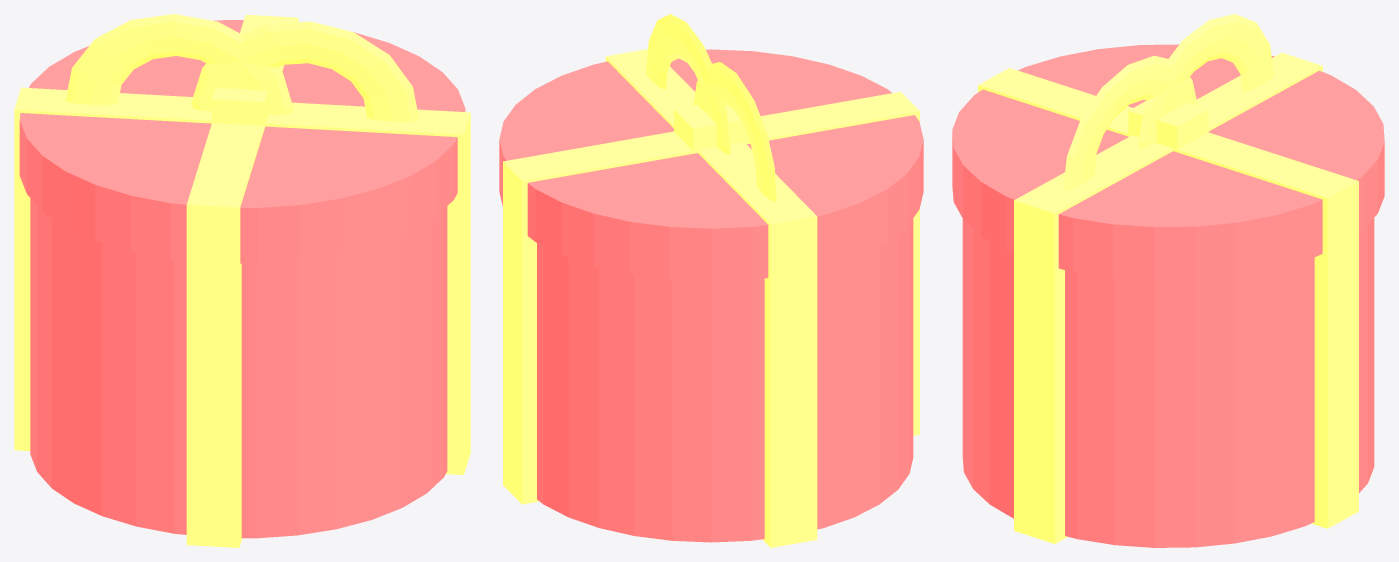
File: Tmpl_Round_Root_238.glb
The picture shows the model from 3 angles, left to right: view 1: azimuth 30°, elevation 25°; view 2: azimuth 150°, elevation 25°; view 3: azimuth 270°, elevation 25°; orthographic projection. The views are drawn at different scales.
Visible parts, largest first — view 1: Tmpl_Round_Base.236, Tmpl_Round_Lid.236, Tmpl_Round_Ribbon_Y.236, Tmpl_Round_Ribbon_X.236, Tmpl_Round_BowL.236, Tmpl_Round_BowR.236, Tmpl_Round_BowKnot.236; view 2: Tmpl_Round_Base.236, Tmpl_Round_Lid.236, Tmpl_Round_Ribbon_X.236, Tmpl_Round_Ribbon_Y.236, Tmpl_Round_BowR.236, Tmpl_Round_BowL.236, Tmpl_Round_BowKnot.236; view 3: Tmpl_Round_Base.236, Tmpl_Round_Lid.236, Tmpl_Round_Ribbon_X.236, Tmpl_Round_Ribbon_Y.236, Tmpl_Round_BowL.236, Tmpl_Round_BowR.236, Tmpl_Round_BowKnot.236.
Boxes of the visible parts, left/top/right/bottom form: Tmpl_Round_Base.236: left=30, top=198, right=447, bottom=538; Tmpl_Round_Lid.236: left=19, top=19, right=465, bottom=263; Tmpl_Round_Ribbon_Y.236: left=186, top=14, right=298, bottom=547; Tmpl_Round_Ribbon_X.236: left=14, top=87, right=470, bottom=474; Tmpl_Round_BowL.236: left=65, top=14, right=293, bottom=114; Tmpl_Round_BowR.236: left=191, top=21, right=419, bottom=121; Tmpl_Round_BowKnot.236: left=212, top=88, right=268, bottom=125; Tmpl_Round_Base.236: left=537, top=218, right=913, bottom=542; Tmpl_Round_Lid.236: left=499, top=49, right=923, bottom=281; Tmpl_Round_Ribbon_X.236: left=605, top=49, right=817, bottom=547; Tmpl_Round_Ribbon_Y.236: left=503, top=91, right=919, bottom=504; Tmpl_Round_BowR.236: left=646, top=14, right=730, bottom=154; Tmpl_Round_BowL.236: left=693, top=62, right=776, bottom=202; Tmpl_Round_BowKnot.236: left=674, top=105, right=748, bottom=153; Tmpl_Round_Base.236: left=962, top=218, right=1374, bottom=547; Tmpl_Round_Lid.236: left=952, top=44, right=1384, bottom=281; Tmpl_Round_Ribbon_X.236: left=1014, top=52, right=1322, bottom=543; Tmpl_Round_Ribbon_Y.236: left=978, top=68, right=1358, bottom=528; Tmpl_Round_BowL.236: left=1138, top=14, right=1273, bottom=149; Tmpl_Round_BowR.236: left=1063, top=55, right=1197, bottom=191; Tmpl_Round_BowKnot.236: left=1128, top=100, right=1208, bottom=151.
Size of the model in its own units: 0.9657 by 1.04 by 0.9657.
